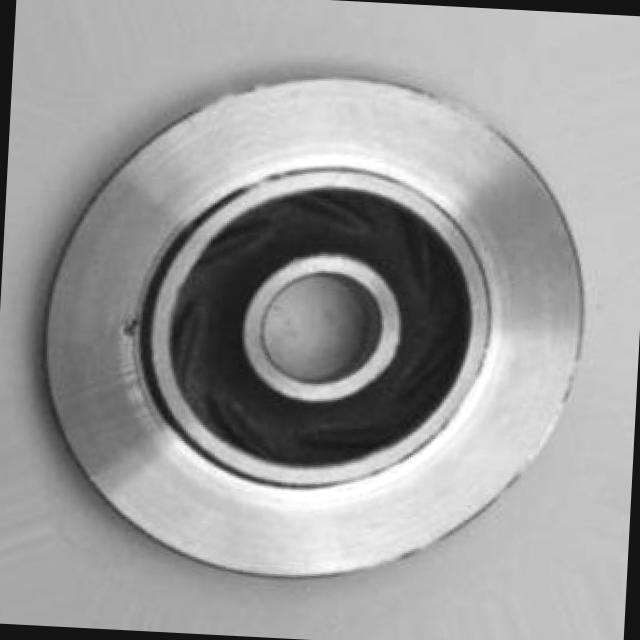Defect: (122, 308, 148, 346)
